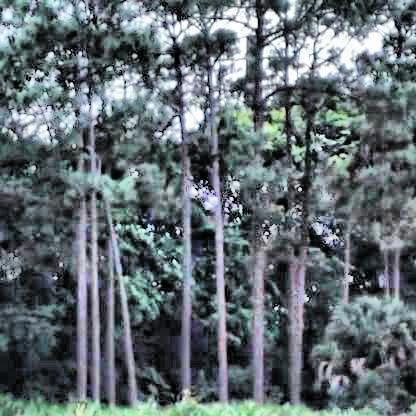golfball: (207, 194, 216, 203)
